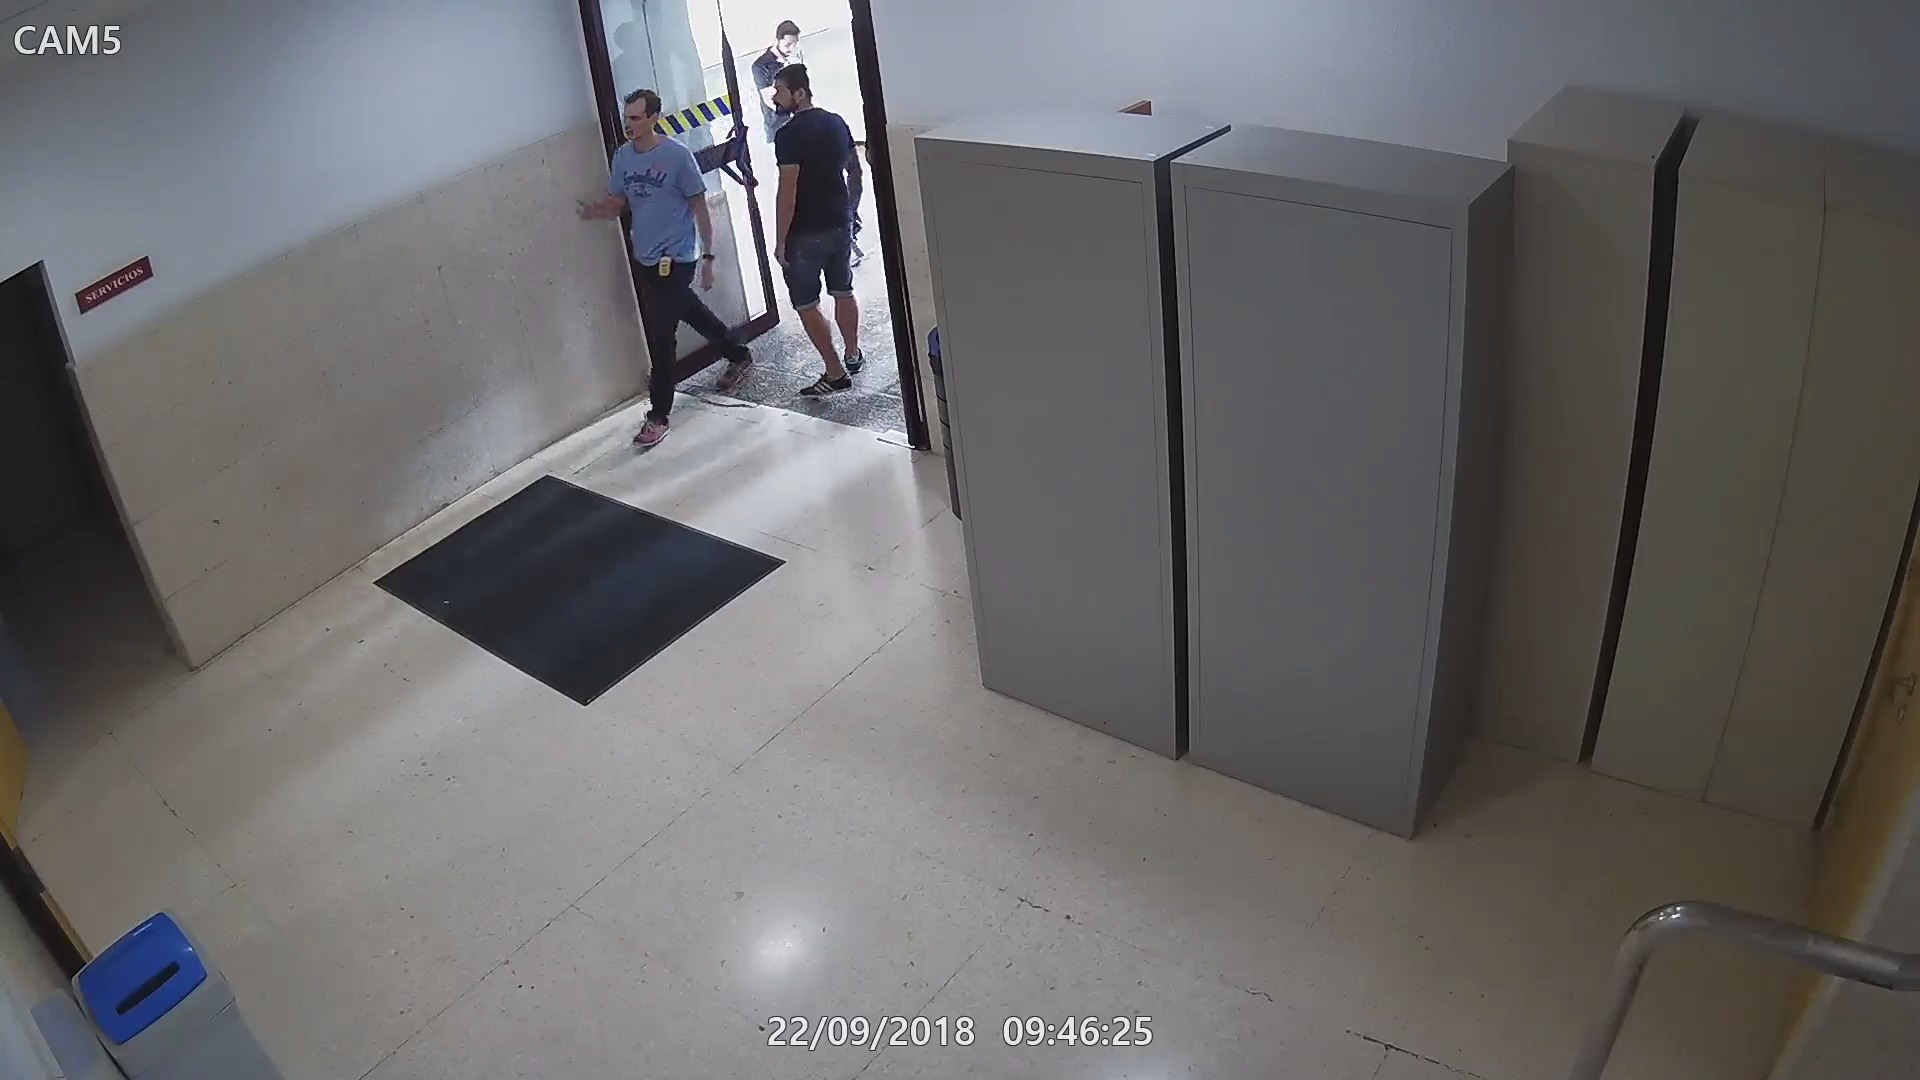Handgun: (844, 210, 870, 258)
